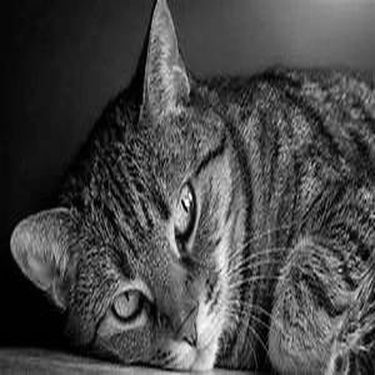cat: (11, 1, 370, 368)
